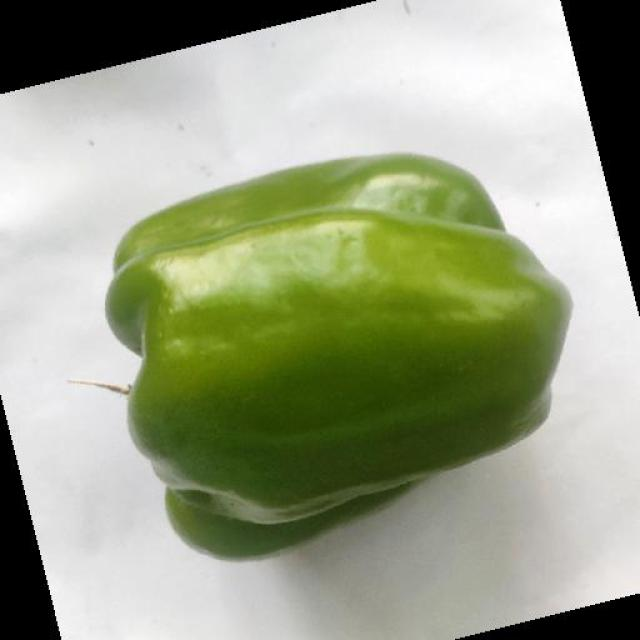Fresh_Capsicum: (98, 173, 553, 540)
